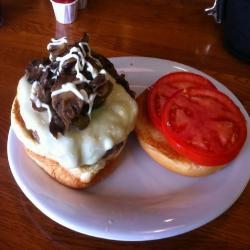burger: (8, 38, 147, 196)
ketchup: (45, 1, 81, 24)
